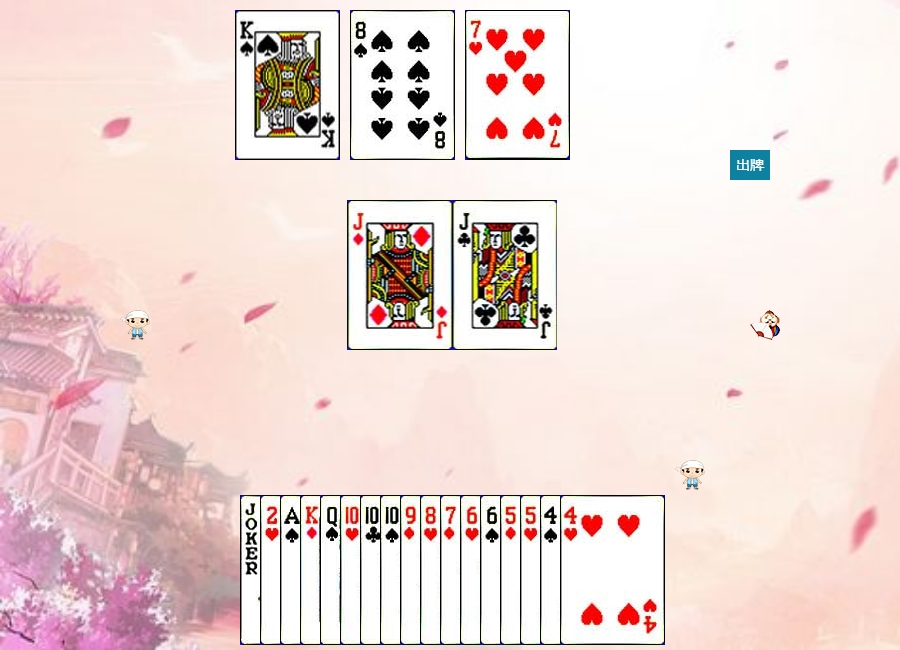10~2: (360, 495, 465, 645)
10~3: (340, 495, 445, 645)
10~4: (380, 495, 485, 645)
11~1: (348, 200, 453, 350)
11~2: (453, 200, 558, 350)
12~4: (320, 495, 425, 645)
13~1: (300, 495, 405, 645)
13~4: (235, 10, 340, 160)
14~4: (280, 495, 385, 645)
15~3: (260, 495, 365, 645)
17~3: (240, 495, 345, 645)
4~3: (560, 495, 665, 645)
4~4: (540, 495, 645, 645)
5~1: (500, 495, 605, 645)
5~3: (520, 495, 625, 645)
6~3: (460, 495, 565, 645)
6~4: (480, 495, 585, 645)
7~1: (440, 495, 545, 645)
7~3: (465, 10, 570, 160)
8~3: (420, 495, 525, 645)
8~4: (350, 10, 455, 160)
9~1: (400, 495, 505, 645)
